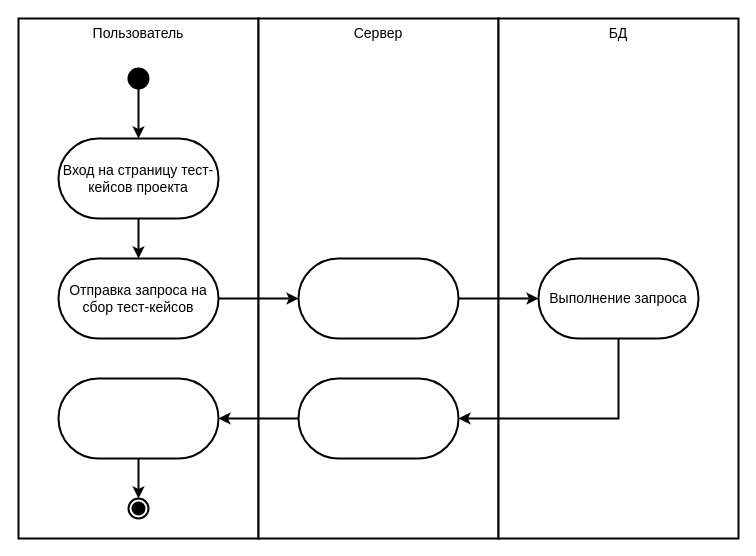
The diagram is 756 pixels wide and 556 high, and some of its shapes have lost their labels. Each missing label, with the centre of its shape:
"Возврат списка тест-кейсов" belongs at point (378, 418).
"Заполнение страницы тест-кейсами" belongs at point (138, 418).
"Запрос в таблицу ProjectTestCases с фильтром по проекту" belongs at point (378, 298).
